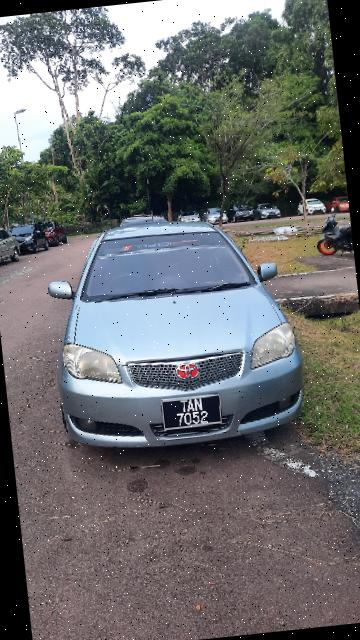License_Plate: (165, 394, 224, 431)
car: (35, 207, 313, 463)
